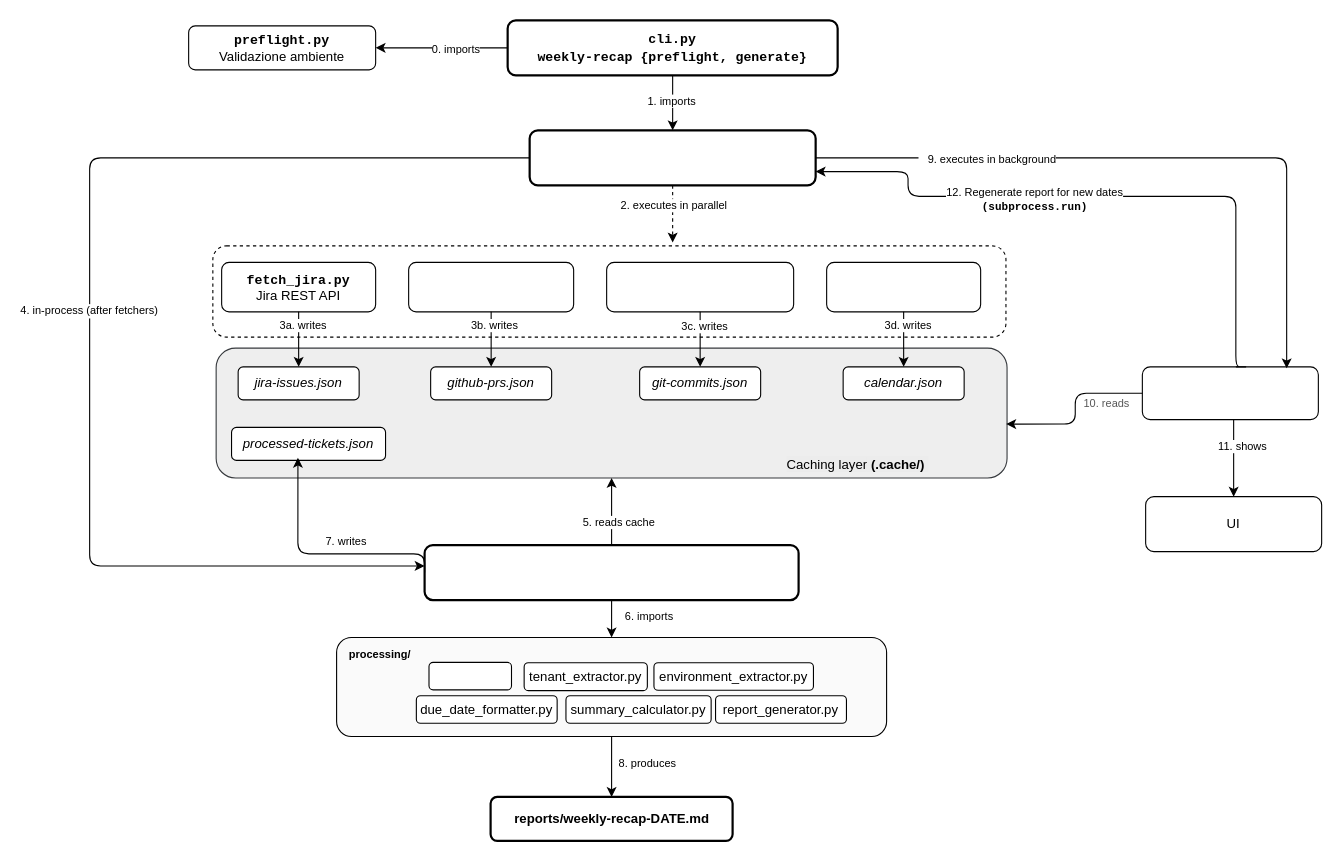
Image size: 1341x860. Some labels were removed from this diagram. Here are the shapes that lost their labels. From the top down, the box of each, then its label:
(528, 129, 816, 186): run_recap.py Orchestratore parallelo
(408, 261, 574, 312): fetch_github_prs.py httpx (Search API)
(606, 261, 794, 312): fetch_github_commits.py httpx (Search + GraphQL)
(826, 261, 981, 312): fetch_calendar.py MS Graph API
(1141, 366, 1318, 420): Streamlit ( /dashboard ) localhost:8501
(423, 543, 799, 601): generate_full_report.py
(428, 661, 512, 690): models.py
